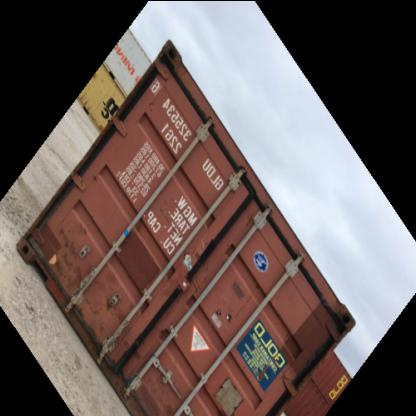Damage: (82, 284, 144, 358), (48, 216, 100, 284), (178, 231, 232, 284), (206, 294, 244, 328)
